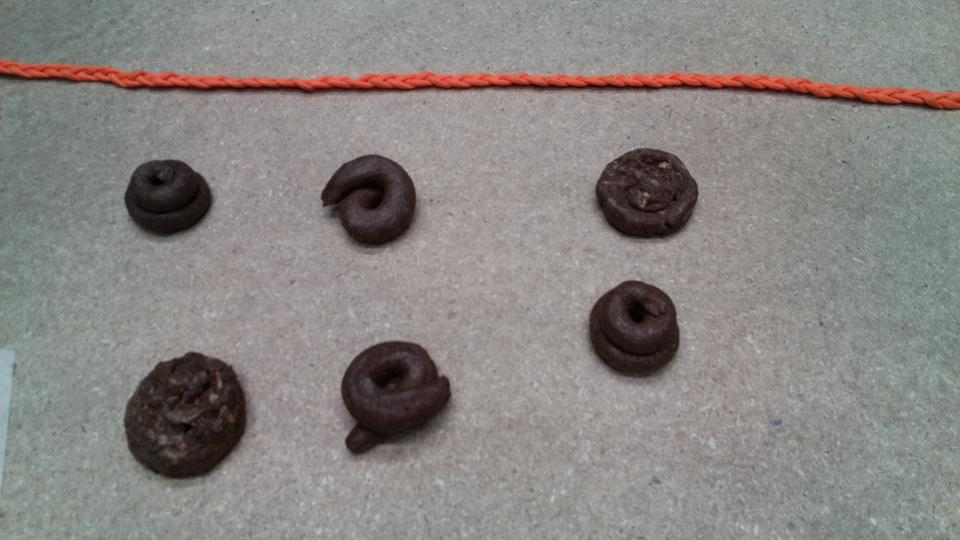poop: (111, 348, 260, 484), (335, 333, 469, 464), (314, 154, 429, 252), (581, 277, 689, 381), (592, 144, 703, 243), (114, 157, 225, 241)
rope: (1, 53, 960, 118)
